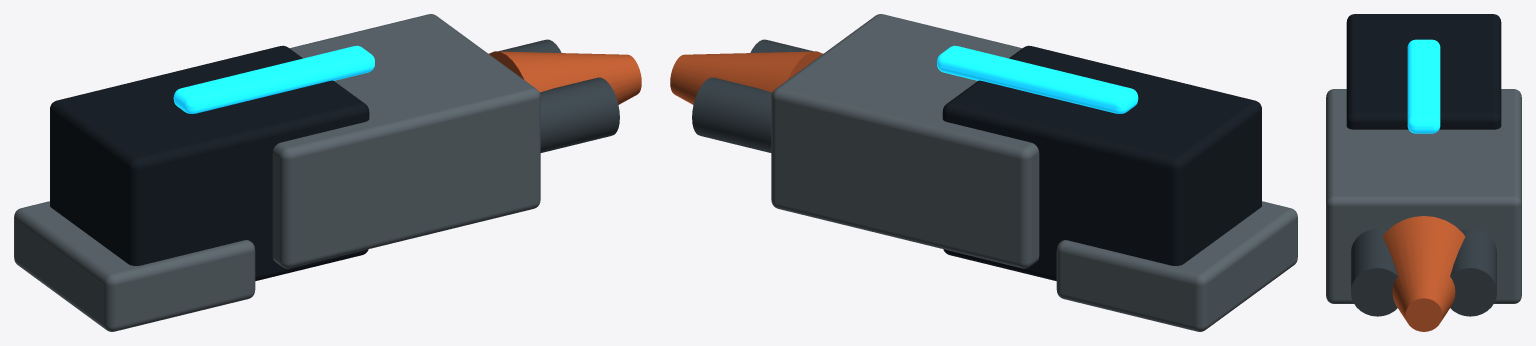
3 views of the same model, side by side, from view 1: azimuth 30°, elevation 25°; view 2: azimuth 150°, elevation 25°; view 3: azimuth 270°, elevation 25° (orthographic). The views are drawn at different scales.
Size of the model in its own units: 5.72 by 1.7 by 1.9.
